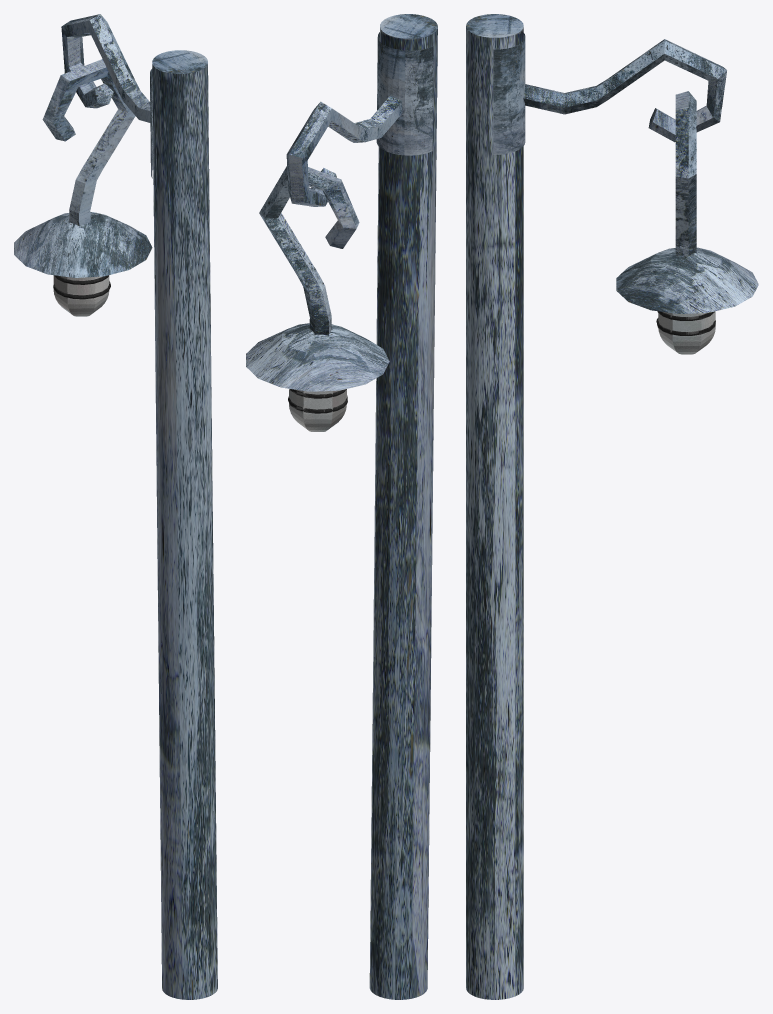
Rendered from poste_luz.obj.
3 renders of one model, left to right at view 1: azimuth 30°, elevation 25°; view 2: azimuth 150°, elevation 25°; view 3: azimuth 270°, elevation 25°, orthographic. The views are drawn at different scales.
Parts seen in each view (by area): view 1: Poste, Foco, Soportes; view 2: Poste, Foco, Soportes; view 3: Poste, Foco.
Boxes of the visible parts, x1,y1,x2,y2 form: Poste: [14, 14, 217, 999]; Foco: [53, 275, 109, 316]; Soportes: [53, 275, 110, 299]; Poste: [246, 14, 437, 999]; Foco: [289, 389, 346, 431]; Soportes: [288, 389, 347, 413]; Poste: [466, 14, 758, 999]; Foco: [658, 311, 715, 354].
Size of the model in its own units: 2.52 by 18.57 by 5.15.
